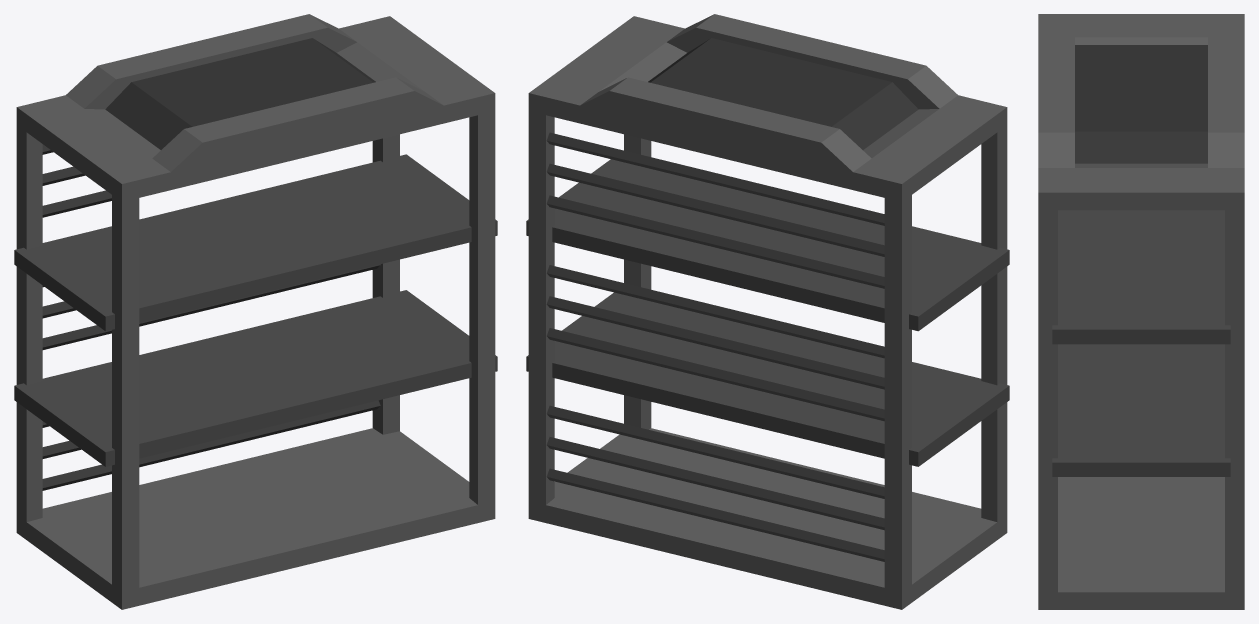
The model's file is shelf_C.FBX.
The picture shows the model from 3 angles, left to right: view 1: azimuth 30°, elevation 25°; view 2: azimuth 150°, elevation 25°; view 3: azimuth 270°, elevation 25°; orthographic projection. The views are drawn at different scales.
Parts seen in each view (by area): view 1: shelf_C; view 2: shelf_C; view 3: shelf_C.
Boxes of the visible parts, <box> form: shelf_C: <box>14,14,497,609</box>; shelf_C: <box>526,14,1009,609</box>; shelf_C: <box>1038,14,1244,609</box>.
Bounding box in the file's own units: 52.51 × 57.29 × 24.4.
